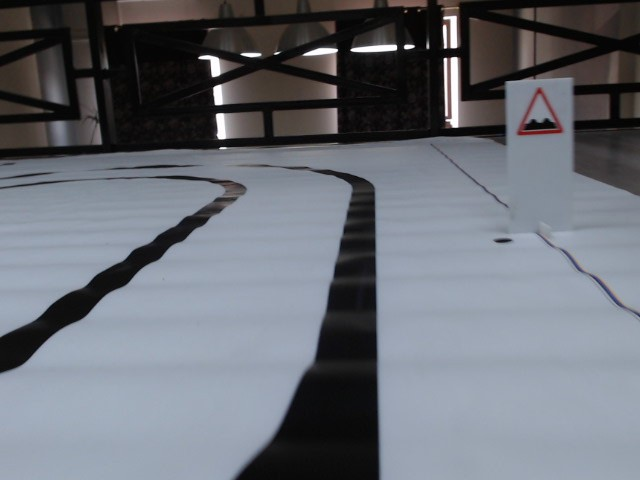Nerov: (517, 87, 562, 139)
